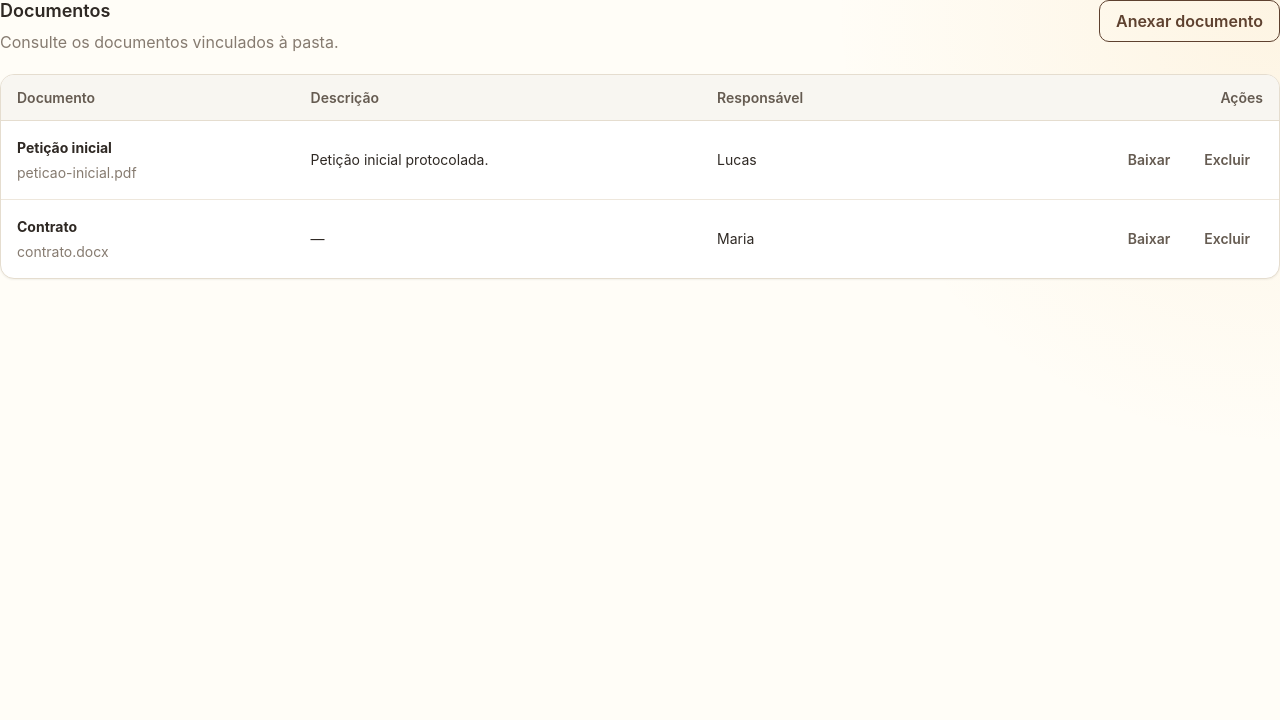
Scenario: FolderDocuments › cancela exclusão sem remover documento
The width and height of the screenshot is (1280, 720).
Click the button "Excluir" in the row of "peticao-inicial.pdf". click: (1227, 160)
box: [1191,143,1263,177]
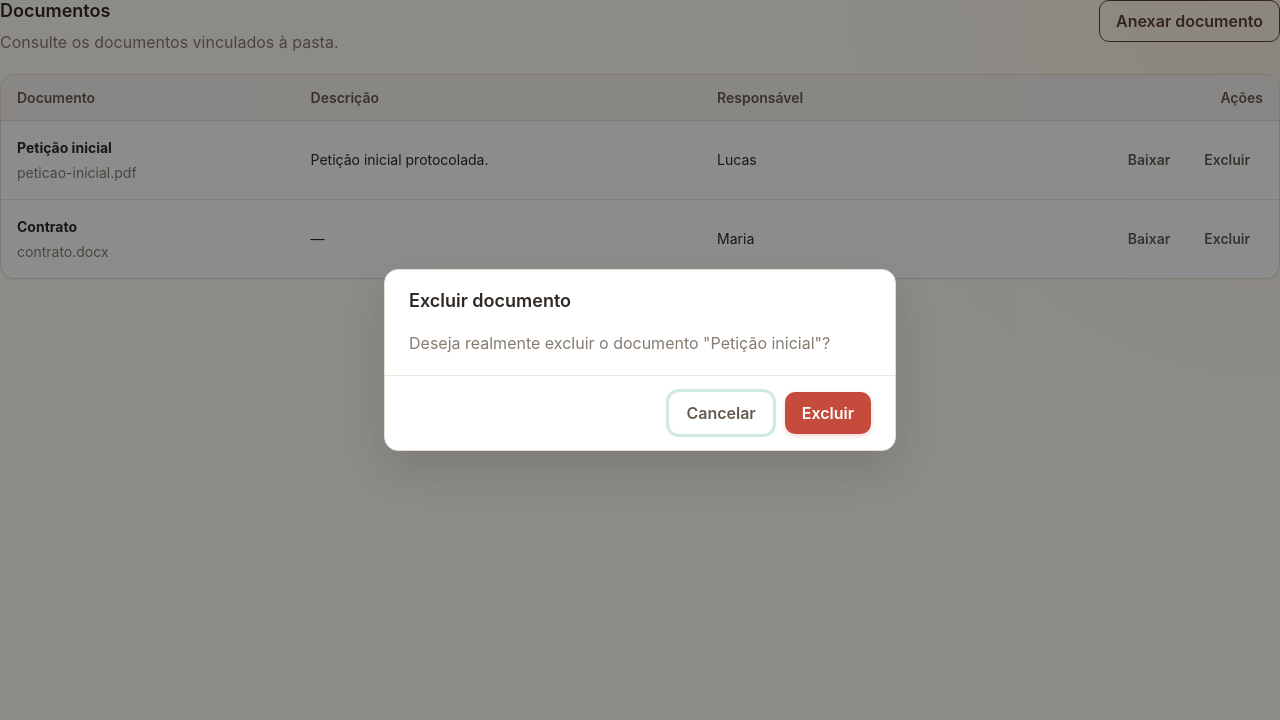
Now the button "Cancelar" is shown
Click the button "Cancelar". click: (721, 413)
box: [669,392,773,434]
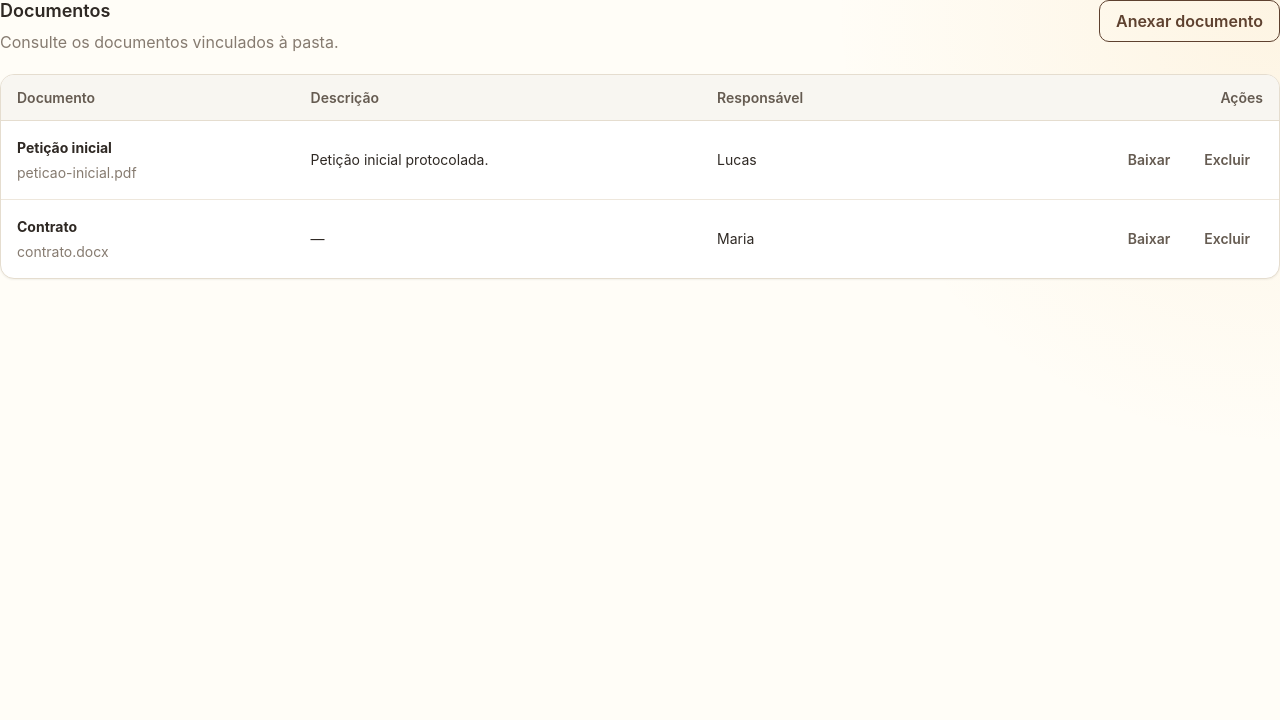
Now the element with class "app-confirm-dialog" is gone
